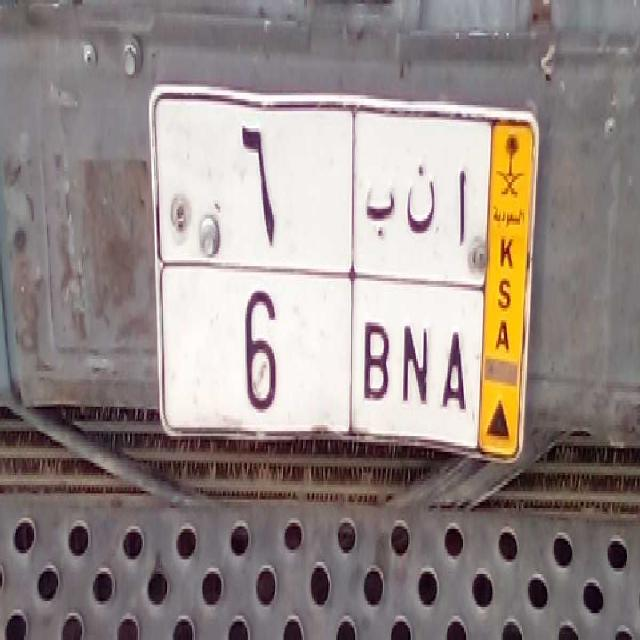license_plate: (156, 261, 481, 456)
